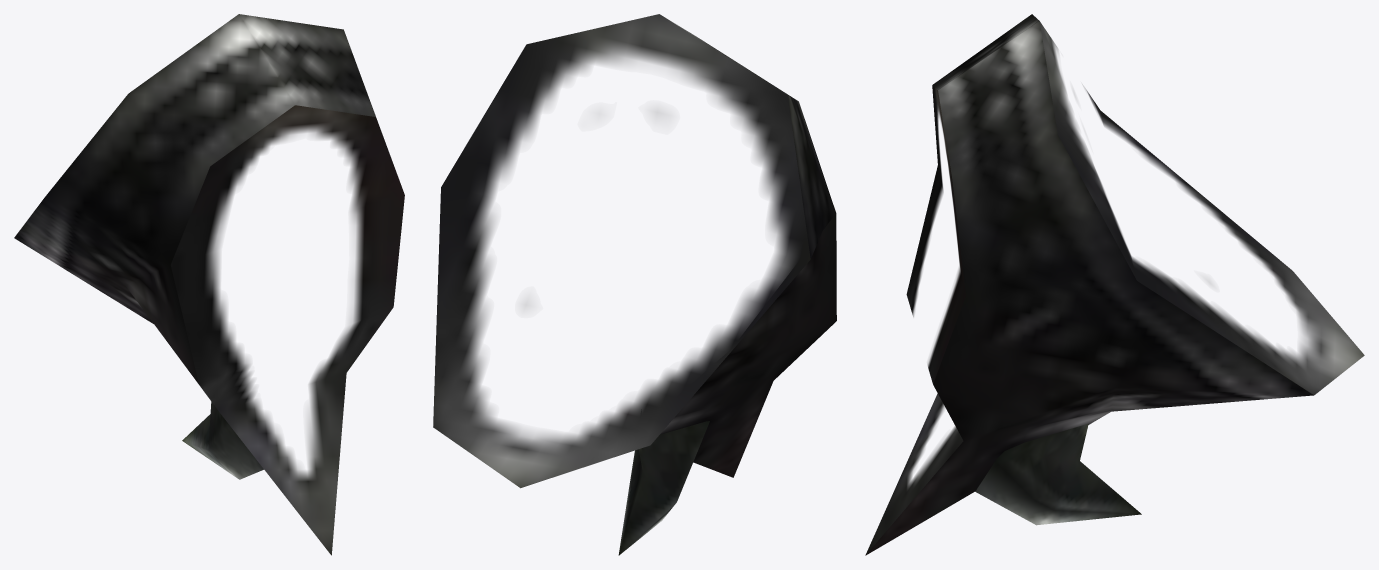
The model's file is shadow_knight_7_knee_right.glb.
3 views of the same model, side by side, from view 1: azimuth 30°, elevation 25°; view 2: azimuth 150°, elevation 25°; view 3: azimuth 270°, elevation 25° (orthographic). The views are drawn at different scales.
Parts seen in each view (by area): view 1: model_shadow_knight_7_knee_right; view 2: model_shadow_knight_7_knee_right; view 3: model_shadow_knight_7_knee_right.
Boxes of the visible parts, left/top/right/bottom form: model_shadow_knight_7_knee_right: left=14, top=14, right=404, bottom=555; model_shadow_knight_7_knee_right: left=433, top=14, right=836, bottom=555; model_shadow_knight_7_knee_right: left=865, top=14, right=1364, bottom=555.
Size of the model in its own units: 0.2261 by 0.3268 by 0.2801.
Materials: 1 (1 with a texture image).
